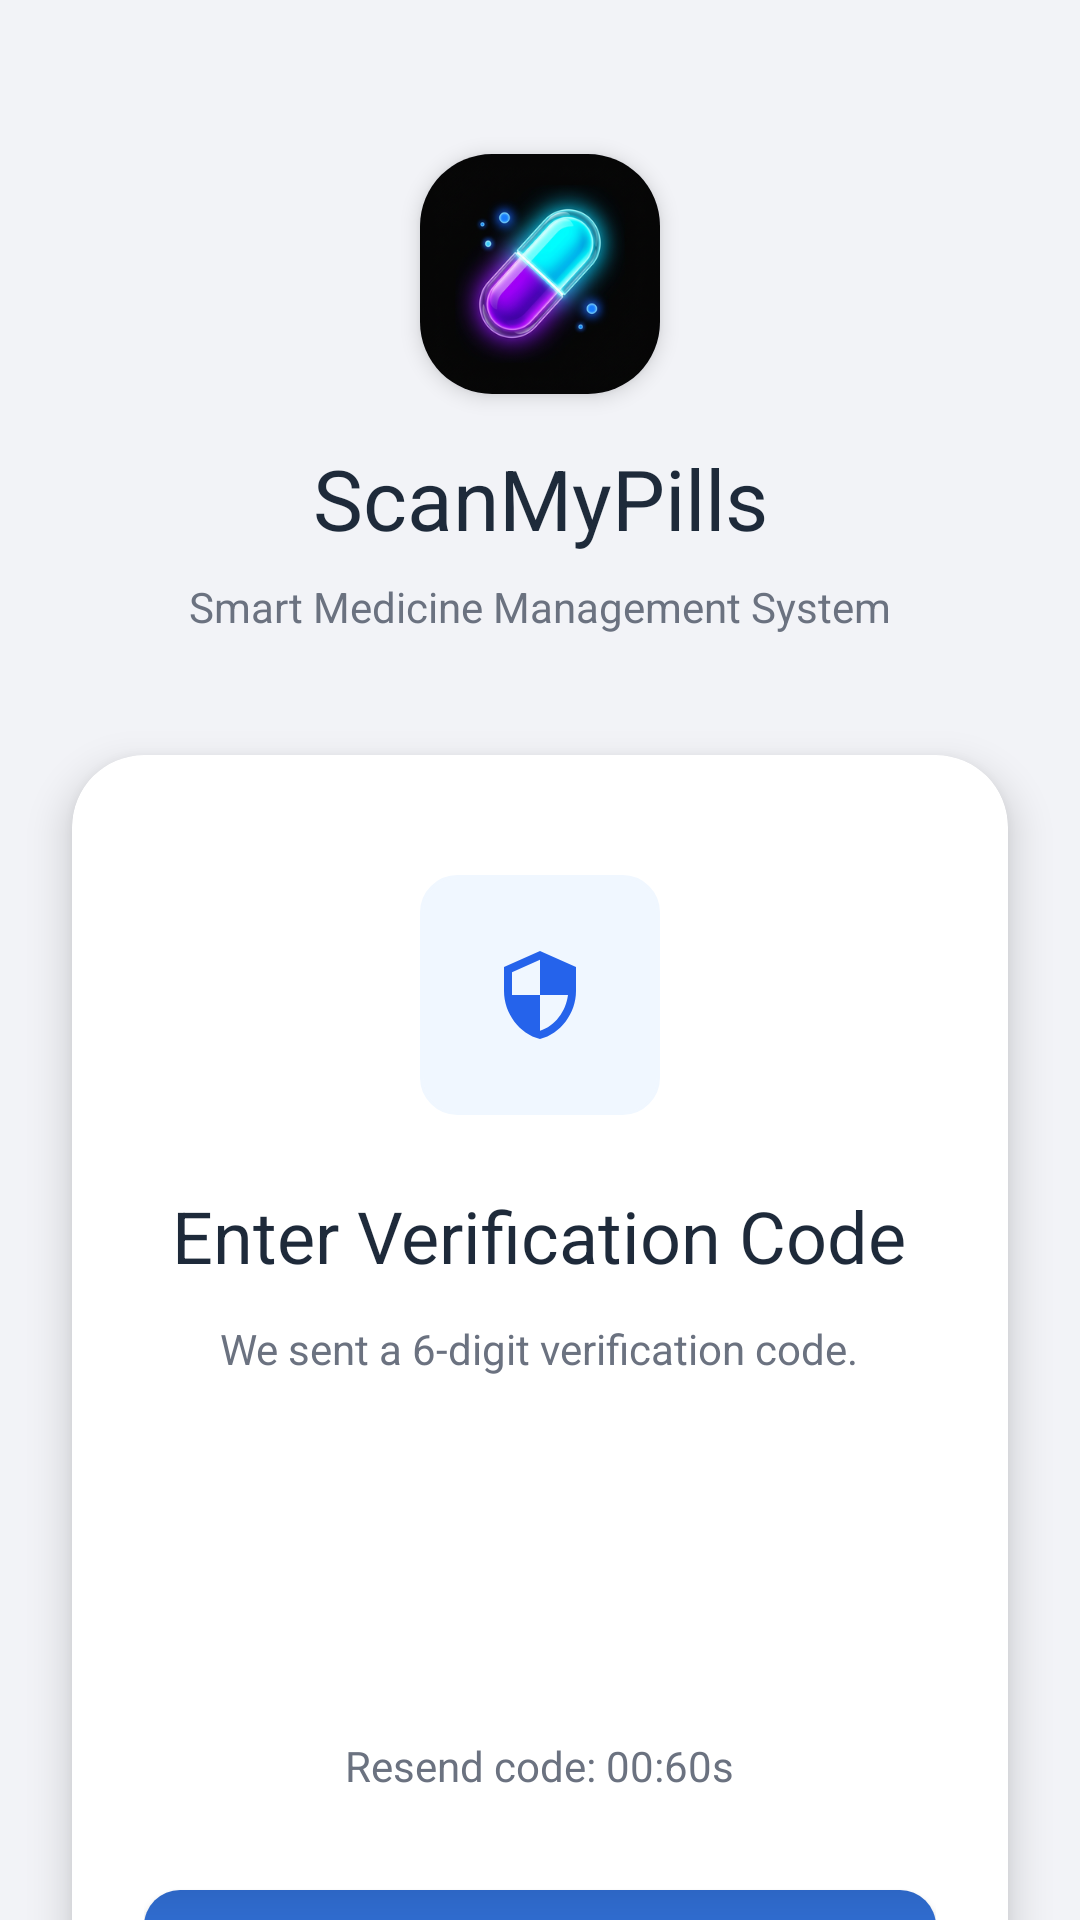

Icons on this 1080px x 1920px Android screen, each with its box as (x1, y1, x2, y2):
shield: (504, 951, 576, 1039)
